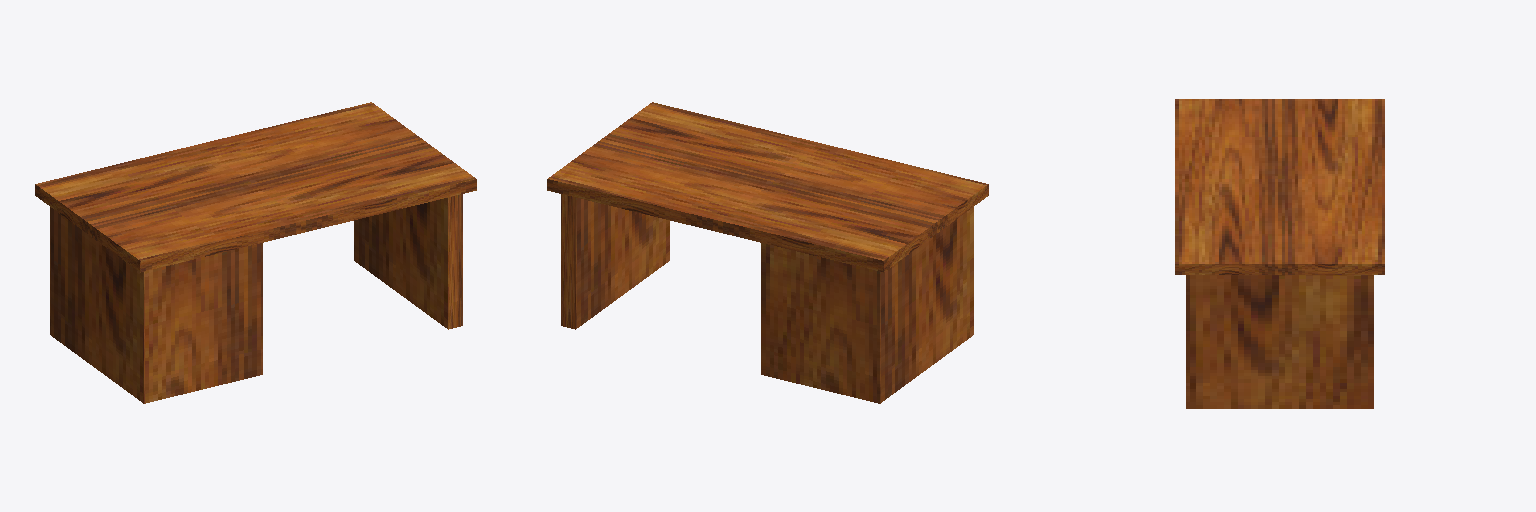
The picture shows the model from 3 angles: view 1: azimuth 30°, elevation 25°; view 2: azimuth 150°, elevation 25°; view 3: azimuth 270°, elevation 25°; orthographic projection.
Visible parts, largest first — view 1: Cube.002; view 2: Cube.002; view 3: Cube.002.
Part boxes in pixels (left/top/right/bottom): Cube.002: left=35, top=102, right=476, bottom=403; Cube.002: left=547, top=102, right=988, bottom=403; Cube.002: left=1175, top=99, right=1384, bottom=408.
Bounding box in the file's own units: 2.4 × 1.02 × 1.3.
1 materials, 1 textured.